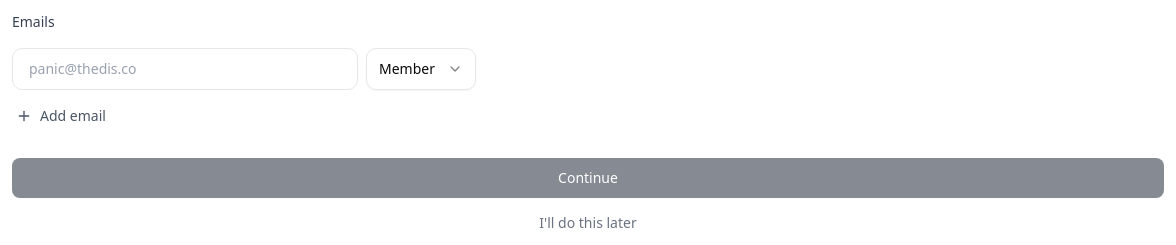
Test: InviteForm › enables Continue button when valid email is entered
Type "test@example.com" into the field with placeholder "panic@thedis.co" at [185, 69], box [12,48,358,90]
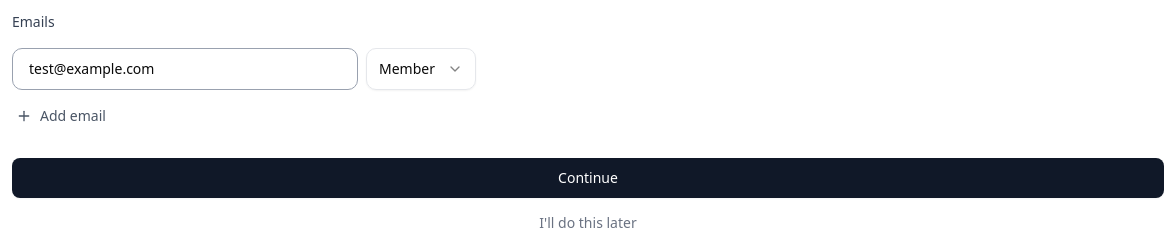
Now the button "Continue" is enabled, box [12,158,1164,198]
